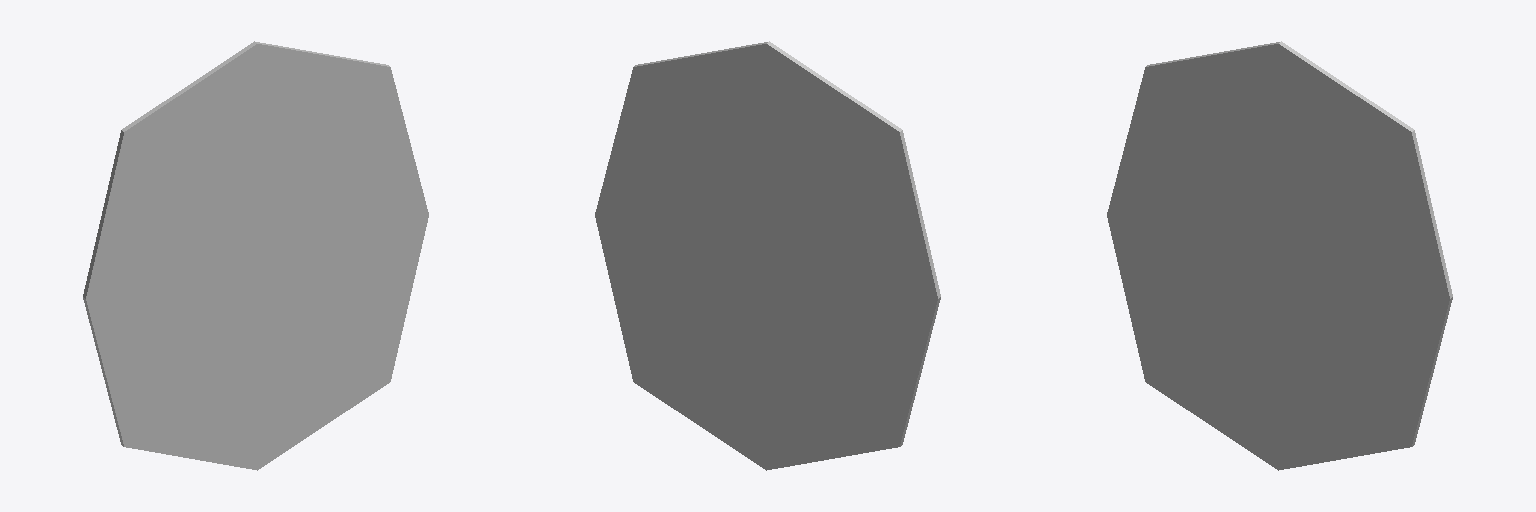
Rendered from DisplayPlaque.obj.
3 renders of one model, left to right at view 1: azimuth 30°, elevation 25°; view 2: azimuth 150°, elevation 25°; view 3: azimuth 330°, elevation 25°, orthographic.
Visible parts, largest first — view 1: DisplayPlaque; view 2: DisplayPlaque; view 3: DisplayPlaque.
Boxes of the visible parts, box(x1,y1,x2,y2) form: DisplayPlaque: box(83, 41, 428, 470); DisplayPlaque: box(595, 41, 940, 470); DisplayPlaque: box(1107, 41, 1452, 470).
Bounding box in the file's own units: 1.29 × 1.53 × 0.02.